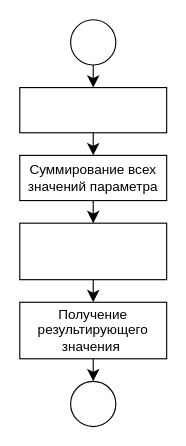
Image size: 186x446. Some labels were removed from this diagram. Each missing label, with the centre of its shape:
"Деление суммы на общее количество наблюдений" goes at (93,251).
"Извлечение значений из DataFrame" goes at (93,109).
